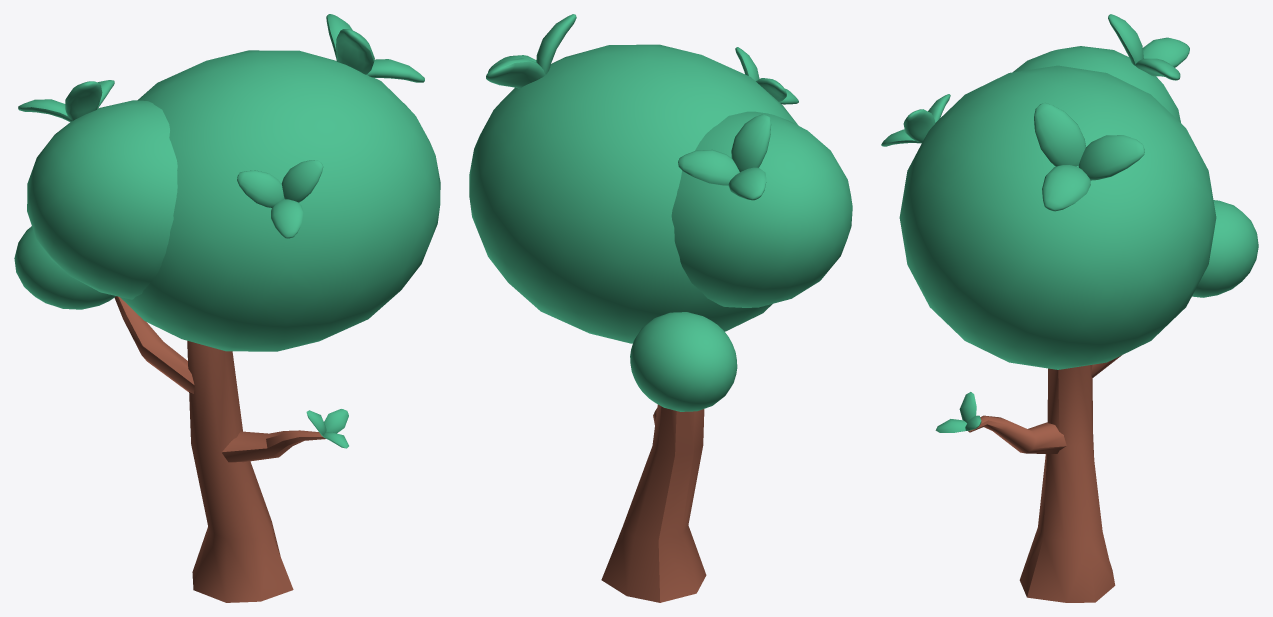
Rendered from treeA.gltf.glb.
3 views of the same model, side by side, from view 1: azimuth 30°, elevation 25°; view 2: azimuth 150°, elevation 25°; view 3: azimuth 270°, elevation 25° (orthographic). The views are drawn at different scales.
Parts seen in each view (by area): view 1: treeA; view 2: treeA; view 3: treeA.
Boxes of the visible parts, x1,y1,x2,y2 form: treeA: (14,14,440,602); treeA: (469,14,852,602); treeA: (881,14,1258,602).
Size of the model in its own units: 2.66 by 3.7 by 2.41.
